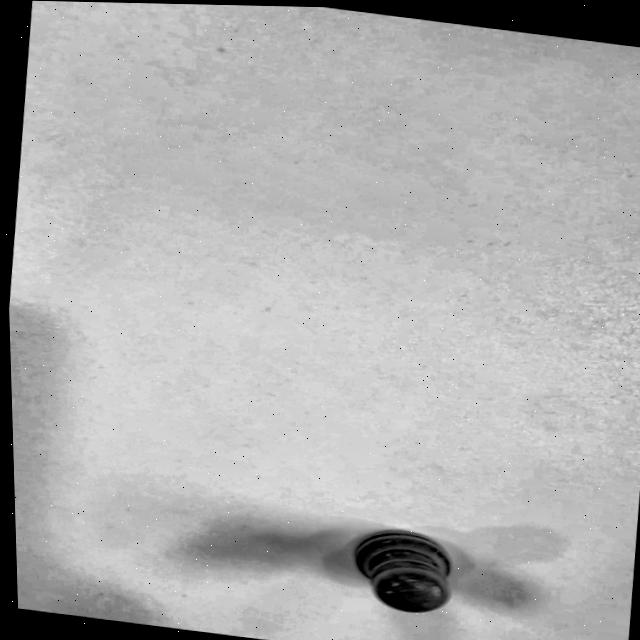black-pawn: (331, 507, 473, 629)
